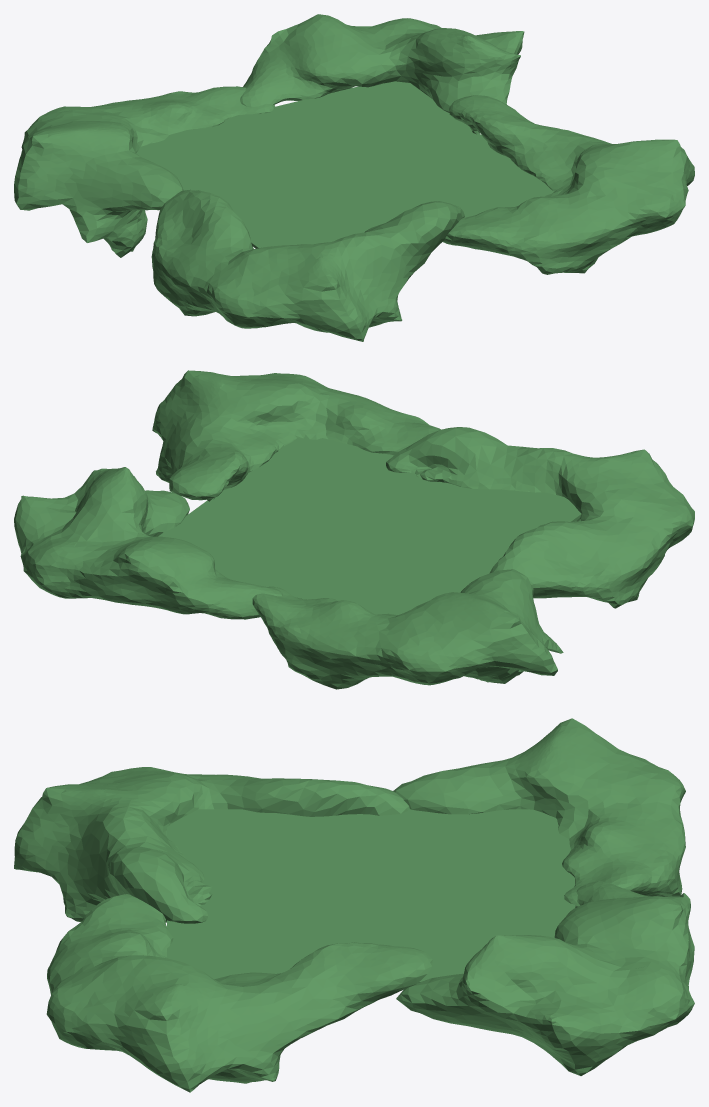
The model's file is Terrain.fbx.
The picture shows the model from 3 angles, top to bottom: view 1: azimuth 30°, elevation 25°; view 2: azimuth 150°, elevation 25°; view 3: azimuth 270°, elevation 25°; orthographic projection. The views are drawn at different scales.
Parts seen in each view (by area): view 1: Mountain.003; view 2: Mountain.003; view 3: Mountain.003.
Boxes of the visible parts, left/top/right/bottom form: Mountain.003: left=14, top=14, right=694, bottom=341; Mountain.003: left=14, top=370, right=694, bottom=689; Mountain.003: left=14, top=718, right=694, bottom=1092.
Size of the model in its own units: 75.03 by 17.27 by 66.73.
